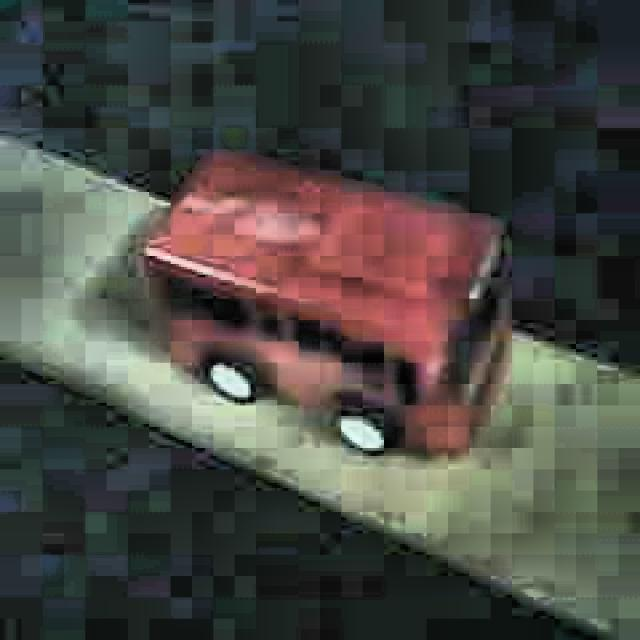bus: (136, 148, 511, 466)
